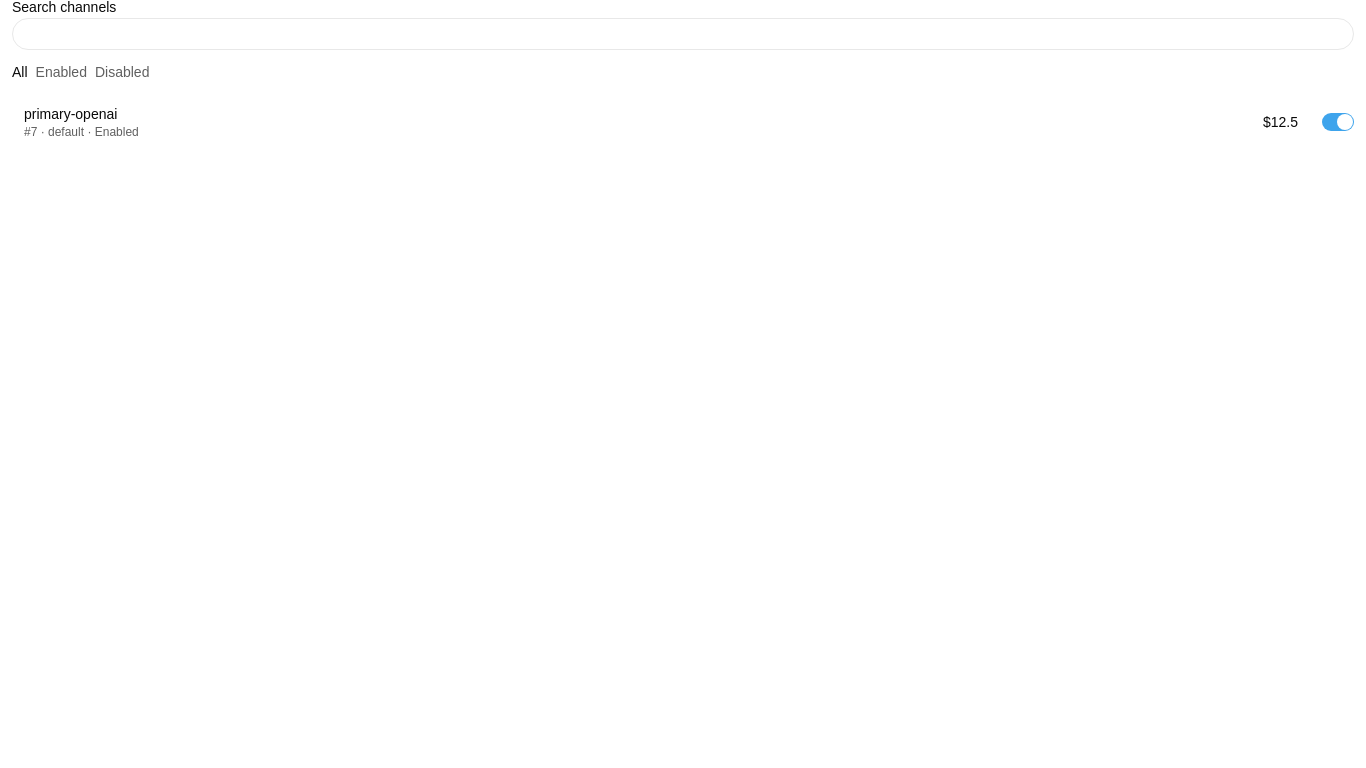
Test: ChannelsPage › cannot submit twice while the write is in flight
expect the text "primary-openai" is shown: met, box [24, 106, 117, 122]
Click the switch named "Enabled primary-openai": click(1338, 122) [1322, 113, 1354, 131]
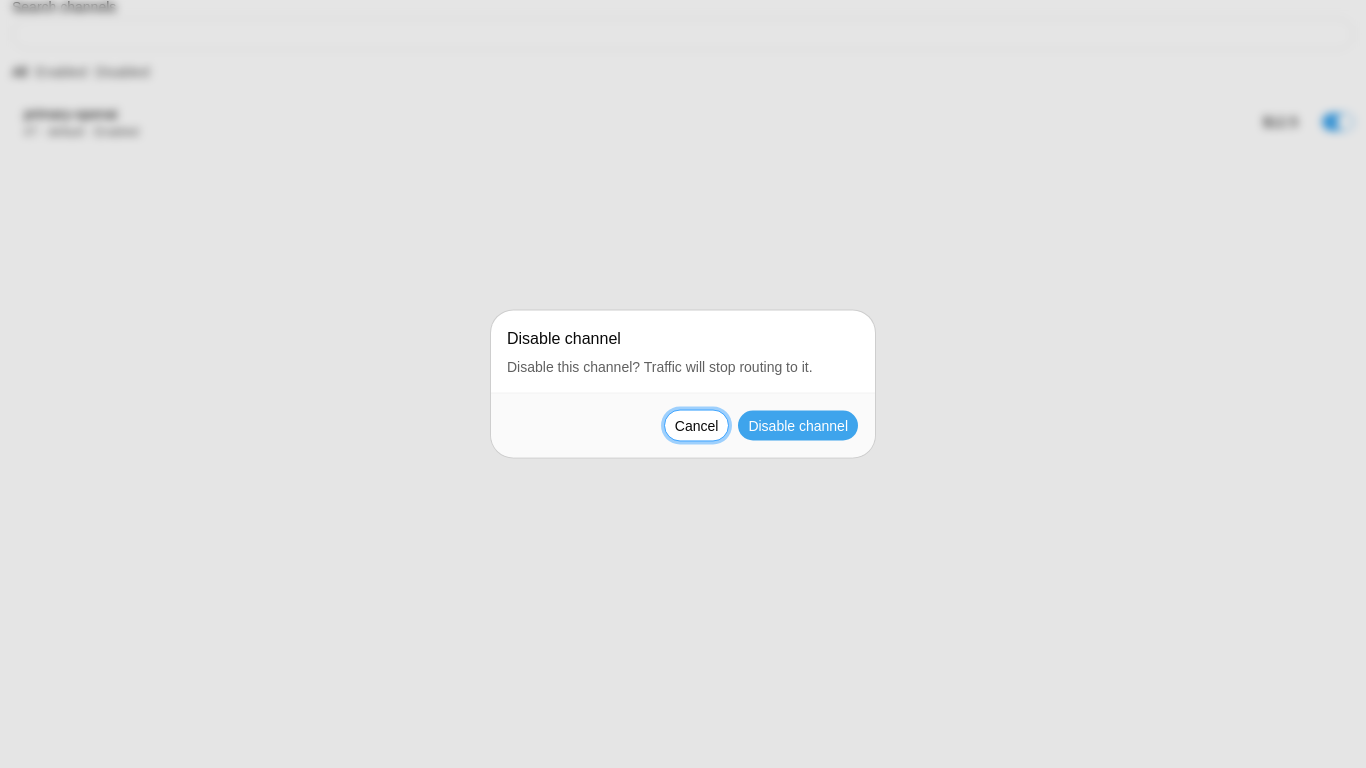
Click the button "Disable channel": click(798, 426) [737, 410, 859, 442]
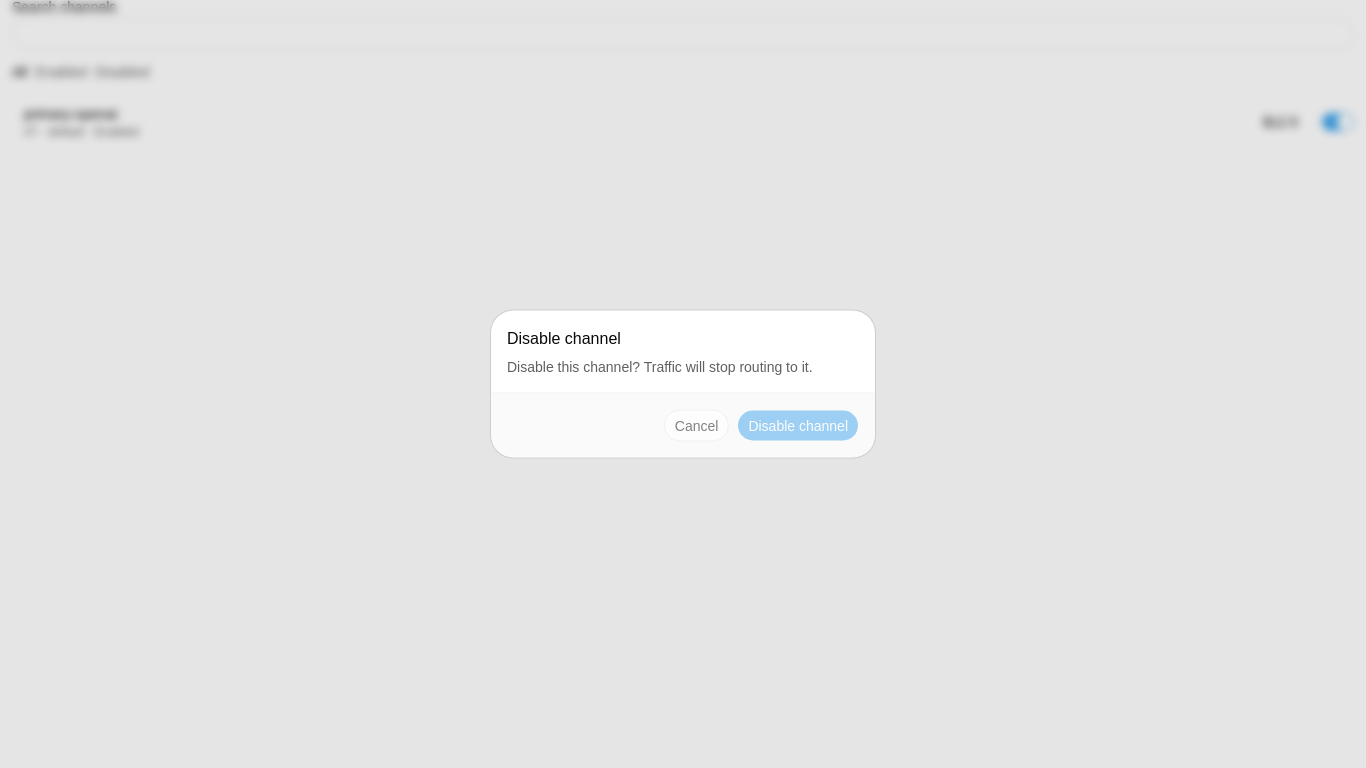
expect the button "Disable channel" is disabled: met
// A second confirm while the POST is pending must not issue another write.
Click the button "Disable channel": click(798, 426) [737, 410, 859, 442]
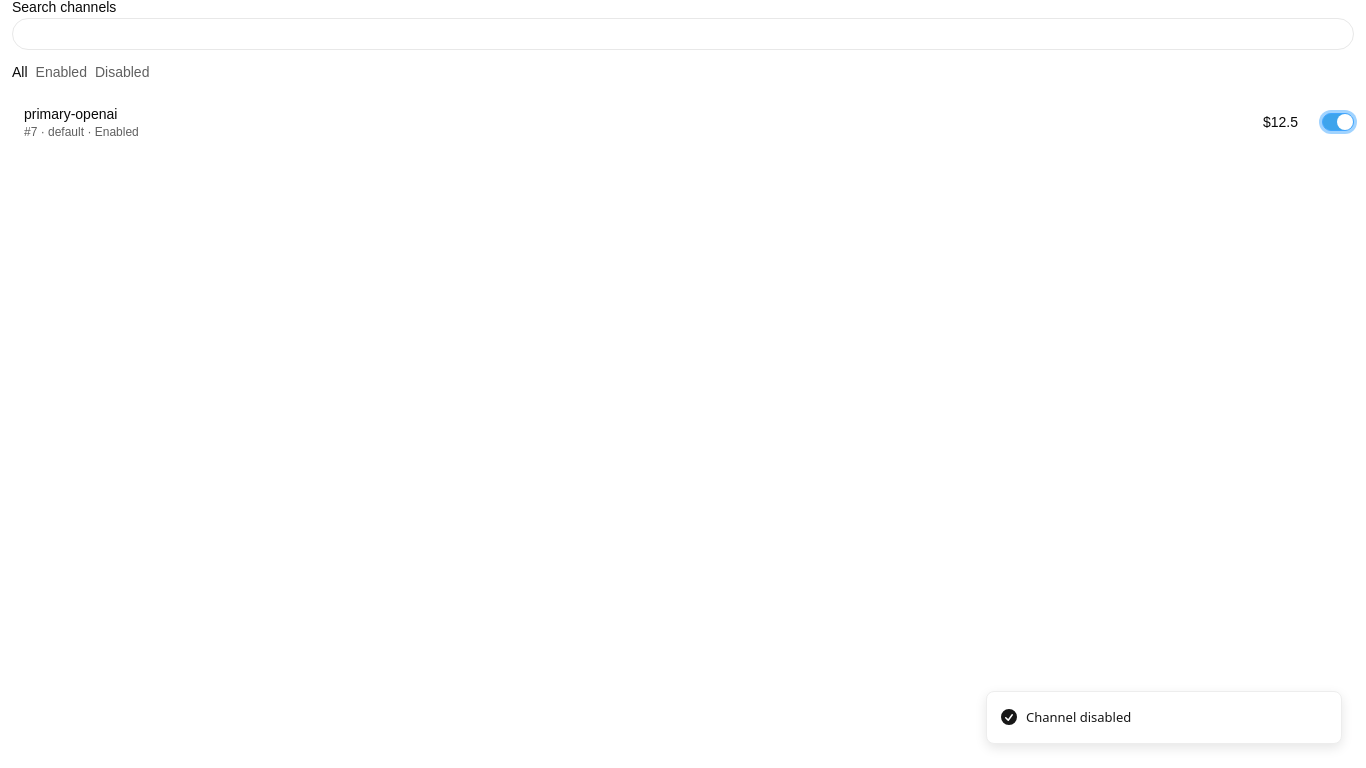
expect the dialog is gone: met
